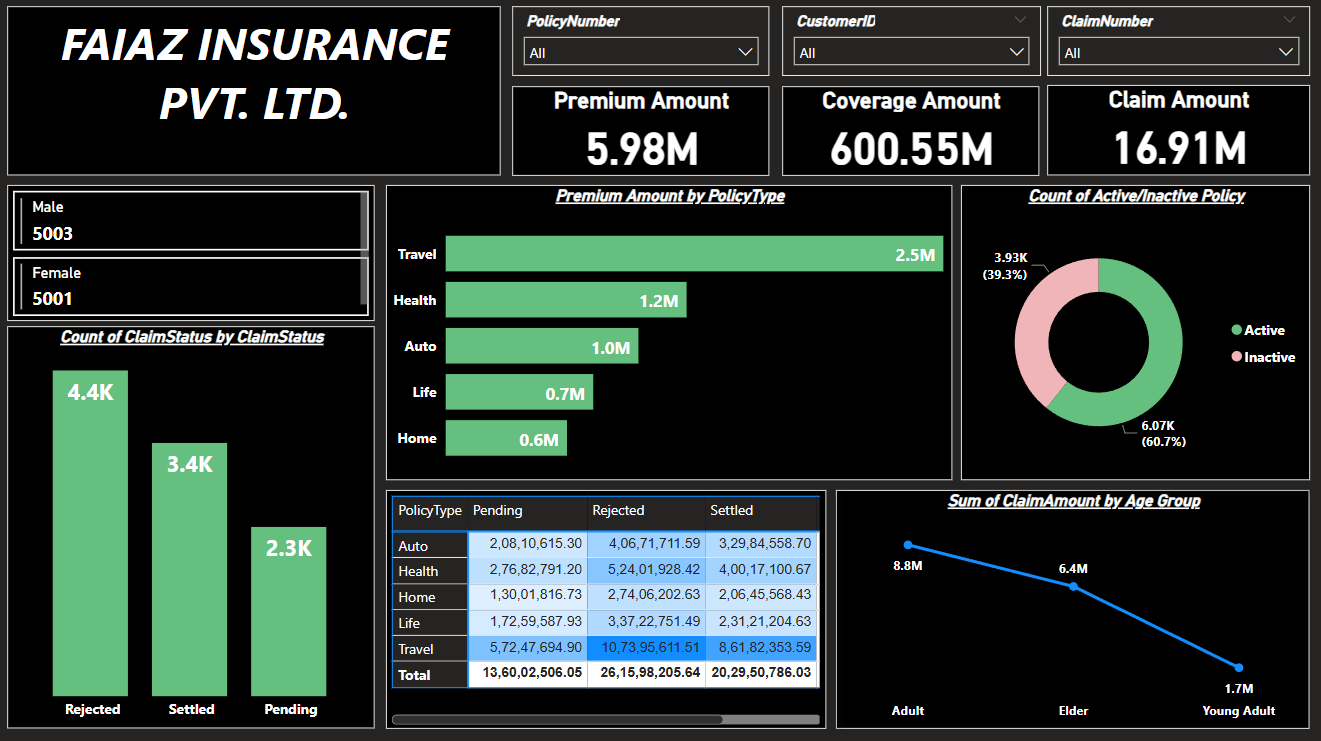

The dashboard page shown, as its layout file describes it:
{"tool":"powerbi","page":{"name":"Page 1","canvas":[1280,720],"ordinal":0},"visuals":[{"type":"slicer","fields":{"Values":["Insurance_Data.PolicyNumber"]},"box":[497.7,11,248.2,67.2],"z":0},{"type":"slicer","fields":{"Values":["Insurance_Data.CustomerID"]},"box":[758.2,11,249.5,67.2],"z":1},{"type":"slicer","fields":{"Values":["Insurance_Data.ClaimNumber"]},"box":[1014.6,11,253.6,67.2],"z":2},{"type":"textbox","box":[11,11,475.8,163.2],"z":3},{"type":"card","title":"Premium Amount","fields":{"Values":["Sum(Insurance_Data.PremiumAmount)"]},"box":[497.7,87.7,248.2,86.4],"z":4},{"type":"card","title":"Coverage Amount","fields":{"Values":["Sum(Insurance_Data.CoverageAmount)"]},"box":[758.2,87.7,248.2,86.4],"z":5},{"type":"card","title":"Claim Amount","fields":{"Values":["Sum(Insurance_Data.ClaimAmount)"]},"box":[1014.3,86.8,253.3,86.8],"z":6},{"type":"multiRowCard","fields":{"Values":["CountNonNull(Insurance_Data.Gender)","Insurance_Data.Gender"]},"box":[10.9,183.3,354.6,131.5],"z":7},{"type":"columnChart","title":"Count of ClaimStatus by ClaimStatus","fields":{"Category":["Insurance_Data.ClaimStatus"],"Y":["CountNonNull(Insurance_Data.ClaimStatus)"]},"box":[10.9,319.6,354.6,388.3],"z":8},{"type":"barChart","title":"Premium Amount by PolicyType","fields":{"Category":["Insurance_Data.PolicyType"],"Y":["Sum(Insurance_Data.PremiumAmount)"]},"box":[376.3,183.3,546.3,284.6],"z":9},{"type":"lineChart","fields":{"Category":["Insurance_Data.Age Group"],"Y":["Sum(Insurance_Data.ClaimAmount)"]},"box":[810.5,477.6,457.1,230.4],"z":10},{"type":"donutChart","title":"Count of Active/Inactive Policy","fields":{"Category":["Insurance_Data.Active/Inactive"],"Y":["CountNonNull(Insurance_Data.Active/Inactive)"]},"box":[931.1,183.3,336.5,284.6],"z":11},{"type":"pivotTable","fields":{"Values":["Sum(Insurance_Data.CoverageAmount)"],"Rows":["Insurance_Data.PolicyType"],"Columns":["Insurance_Data.ClaimStatus"]},"box":[376.3,477.6,424.5,230.4],"z":12}]}

Visuals, with their boxes in screenshot pixels (x1, y1, x2, y2), scaled from the page's 1280x720 canvas onto the 1321x741 screenshot:
slicer - Insurance_Data.PolicyNumber: detection(514, 11, 770, 80)
slicer - Insurance_Data.CustomerID: detection(782, 11, 1040, 80)
slicer - Insurance_Data.ClaimNumber: detection(1047, 11, 1309, 80)
textbox: detection(11, 11, 502, 179)
"Premium Amount" card: detection(514, 90, 770, 179)
"Coverage Amount" card: detection(782, 90, 1039, 179)
"Claim Amount" card: detection(1047, 89, 1308, 179)
multiRowCard - CountNonNull(Insurance_Data.Gender) x Insurance_Data.Gender: detection(11, 189, 377, 324)
"Count of ClaimStatus by ClaimStatus" columnChart: detection(11, 329, 377, 729)
"Premium Amount by PolicyType" barChart: detection(388, 189, 952, 482)
lineChart - Insurance_Data.Age Group x Sum(Insurance_Data.ClaimAmount): detection(836, 492, 1308, 729)
"Count of Active/Inactive Policy" donutChart: detection(961, 189, 1308, 482)
pivotTable - Sum(Insurance_Data.CoverageAmount) x Insurance_Data.PolicyType: detection(388, 492, 826, 729)
